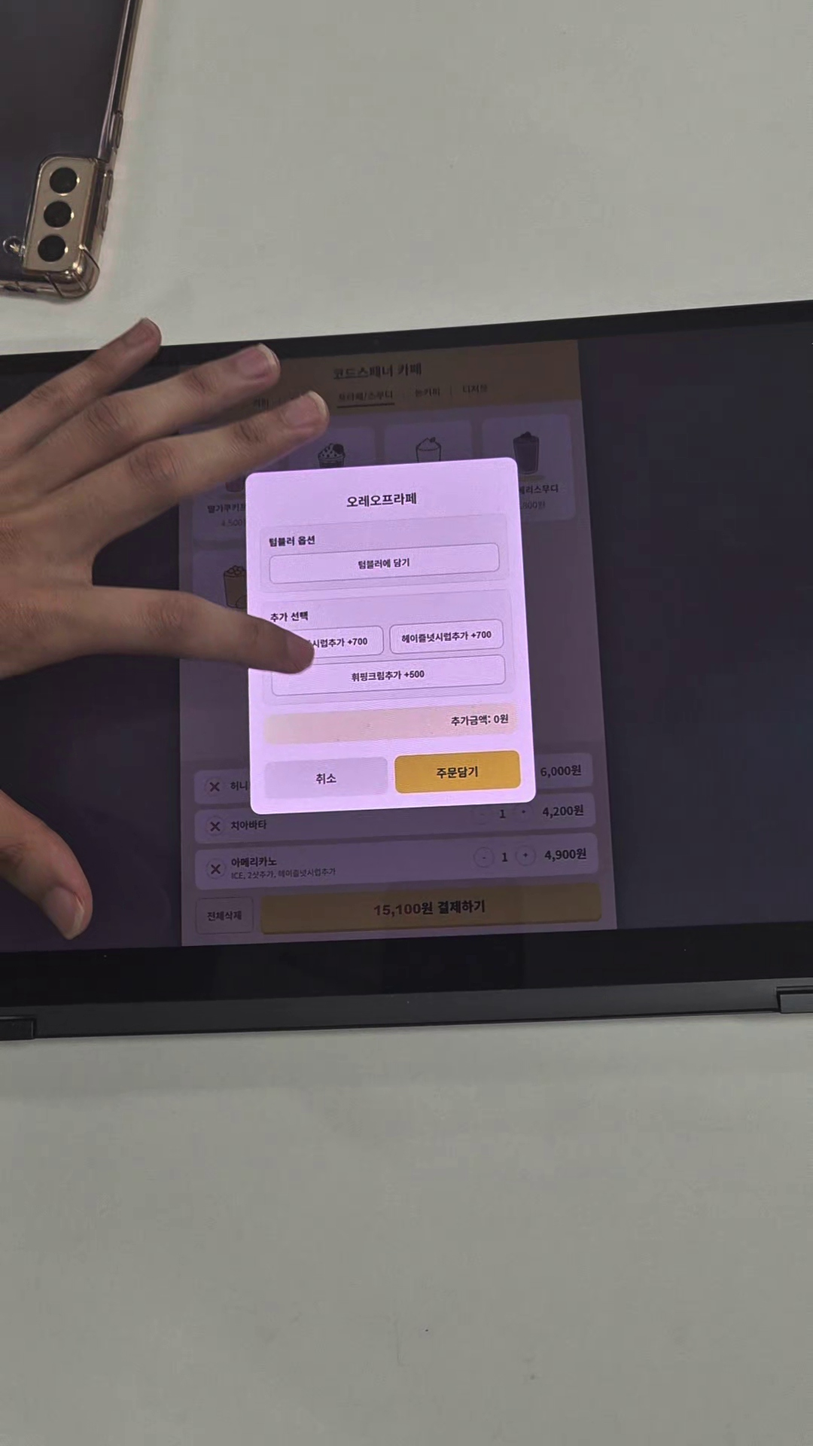option_button: (272, 654, 506, 696), (269, 543, 500, 584), (394, 750, 521, 794), (264, 757, 388, 799), (389, 619, 504, 654), (272, 625, 384, 659)
popup_modal: (245, 457, 536, 815)
